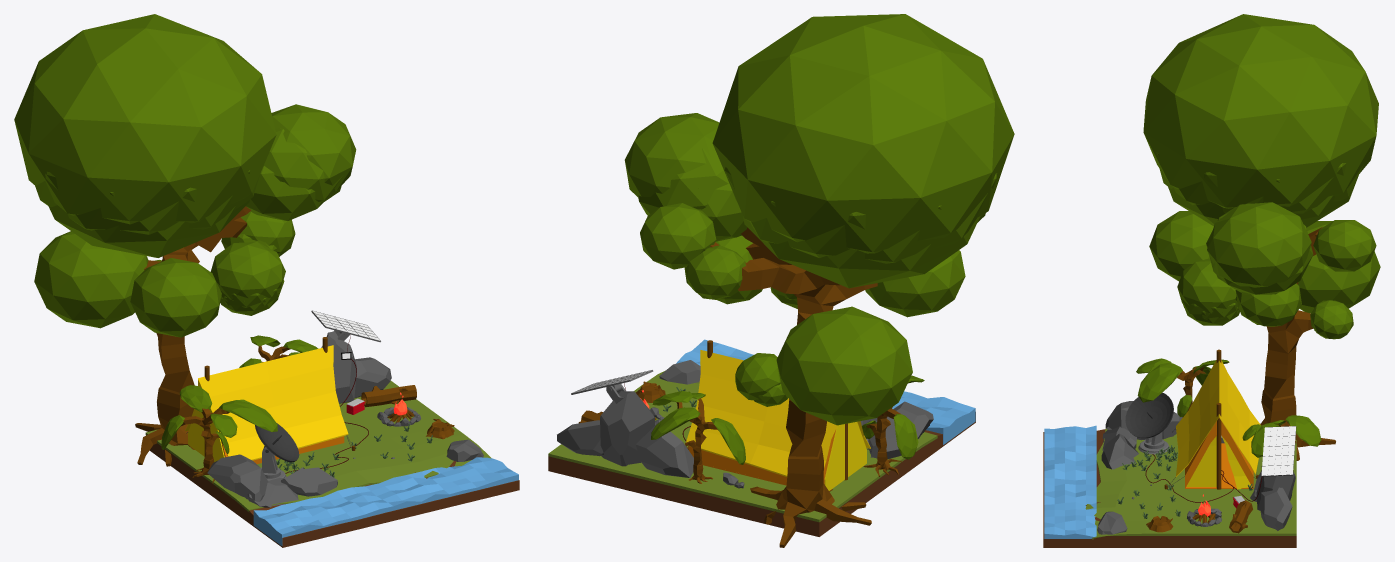
File: camp_export2.glb
The picture shows the model from 3 angles, left to right: view 1: azimuth 30°, elevation 25°; view 2: azimuth 150°, elevation 25°; view 3: azimuth 270°, elevation 25°; orthographic projection. The views are drawn at different scales.
Visible parts, largest first — view 1: Big tree leaves, Rock2.007, Tent-main.001, Rock2.003, Big Tree, Rock_1.004, Rock2.005, Small Tree Leaves 1, Rock2.001, Rock2.008, Satellite Dish, Small Tree 1 (+5 smaller); view 2: Big tree leaves, Big Tree, Tent-main.001, Rock2.007, Rock2.001, Rock2.005, Rock2.003, Rock2.008, Small Tree Leaves 2, Tent-main.002, Rock_1.004, Tent-main (+4 smaller); view 3: Big tree leaves, Rock2.007, Rock2.003, Tent-main.001, Big Tree, Rock2.005, Rock_1.004, Rock2.001, Small Tree Leaves 1, Satellite Dish, Tent-main, Cube.004 (+7 smaller).
Part boxes in pixels (x1,y1,x2,y2): Big tree leaves: (14,14,356,337); Rock2.007: (145,380,491,511); Tent-main.001: (185,345,348,460); Rock2.003: (253,457,518,545); Big Tree: (135,206,251,466); Rock_1.004: (207,454,337,507); Rock2.005: (149,445,519,547); Small Tree Leaves 1: (161,385,277,453); Rock2.001: (321,331,391,403); Rock2.008: (146,435,519,539); Satellite Dish: (255,423,299,462); Small Tree 1: (181,408,229,483); Big tree leaves: (624,14,1014,425); Big Tree: (710,227,877,547); Tent-main.001: (686,350,870,476); Rock2.007: (548,370,937,522); Rock2.001: (557,391,744,488); Rock2.005: (548,412,975,536); Rock2.003: (676,339,975,444); Rock2.008: (548,430,942,527); Small Tree Leaves 2: (651,391,745,464); Tent-main.002: (824,422,866,490); Rock_1.004: (863,401,933,458); Tent-main: (688,430,835,485); Big tree leaves: (1143,14,1380,339); Rock2.007: (1085,429,1296,539); Rock2.003: (1044,425,1096,538); Tent-main.001: (1175,360,1260,477); Big Tree: (1260,227,1335,460); Rock2.005: (1043,539,1296,547); Rock_1.004: (1101,401,1182,469); Rock2.001: (1250,470,1295,530); Small Tree Leaves 1: (1136,358,1229,416); Satellite Dish: (1125,392,1173,438); Tent-main: (1185,421,1253,488); Cube.004: (1261,426,1295,475).
Bounding box in the file's own units: 12.55 × 14.44 × 10.65.
